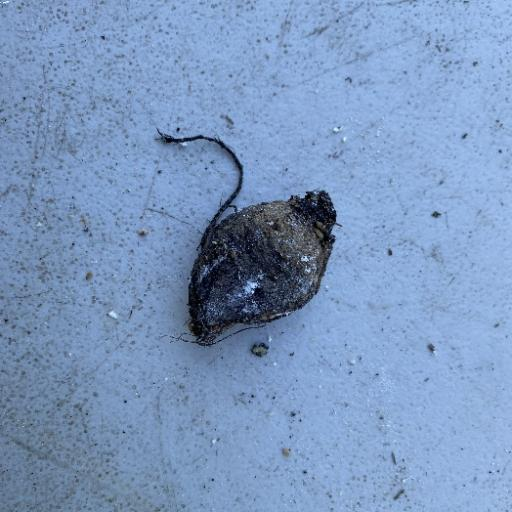Waste: (152, 126, 341, 349)
